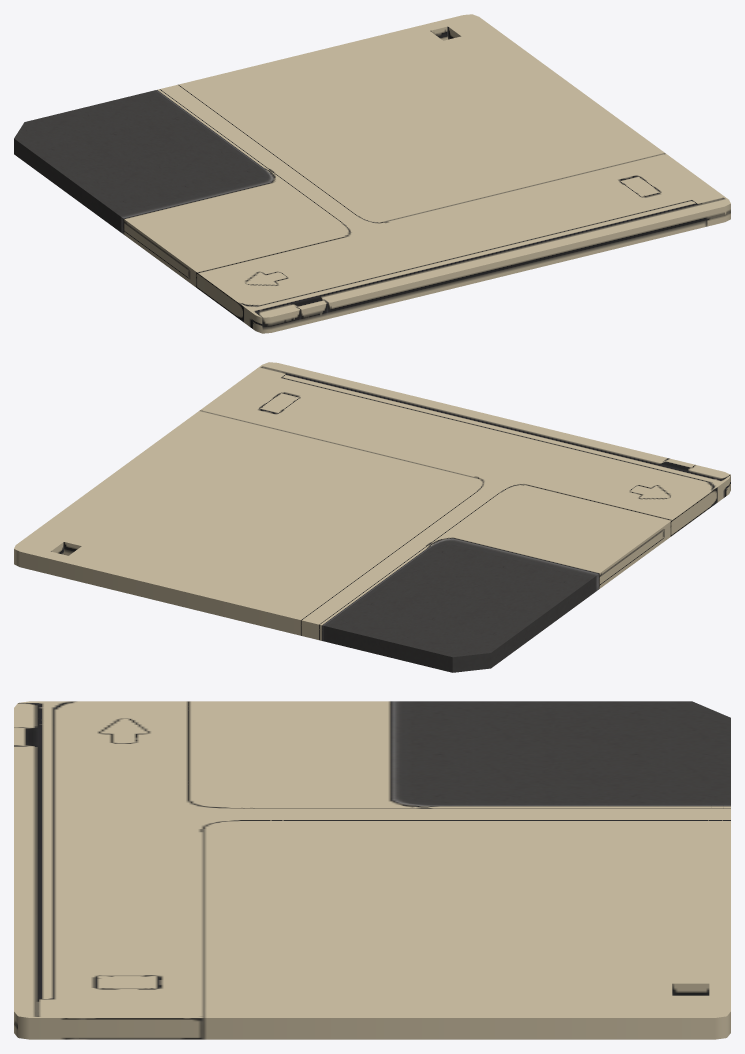
Rendered from floppy_beige.glb.
3 renders of one model, top to bottom at view 1: azimuth 30°, elevation 25°; view 2: azimuth 150°, elevation 25°; view 3: azimuth 270°, elevation 25°, orthographic. The views are drawn at different scales.
Parts seen in each view (by area): view 1: disk1; view 2: disk1; view 3: disk1.
Boxes of the visible parts, x1,y1,x2,y2 form: disk1: (14,14,730,333); disk1: (14,362,730,672); disk1: (14,701,730,1039).
Bounding box in the file's own units: 3.7 × 0.1181 × 3.54.
1 material, 1 textured.
